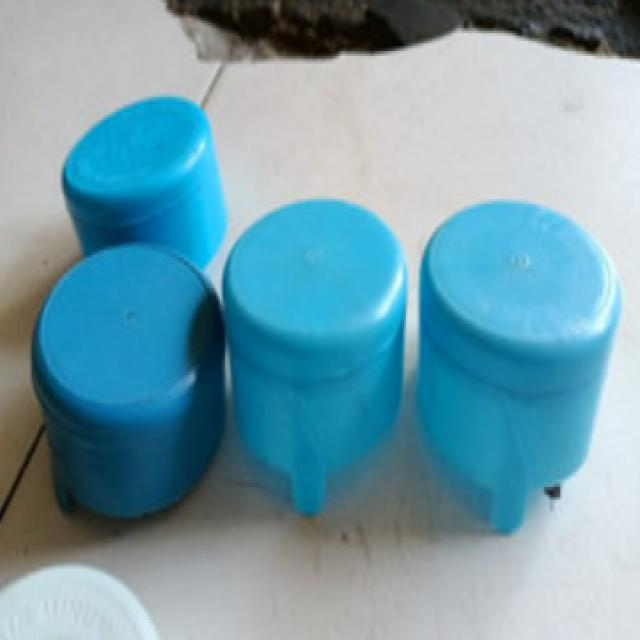TutupGalon: (44, 94, 616, 550)
